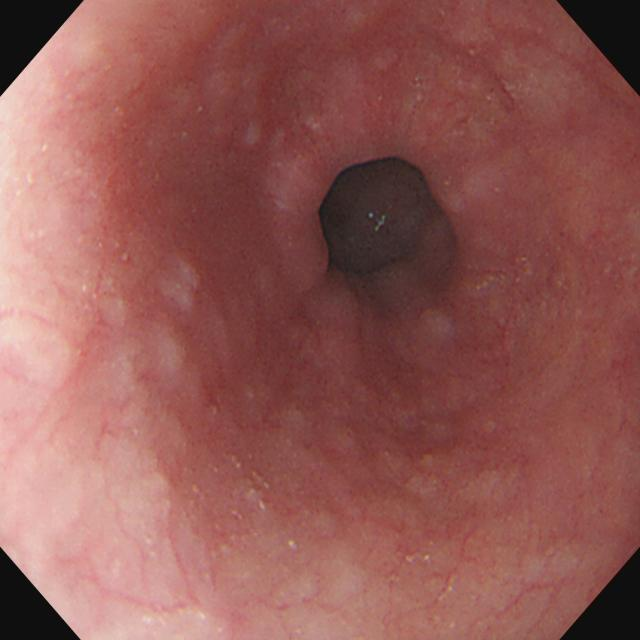E: (320, 158, 453, 298)
